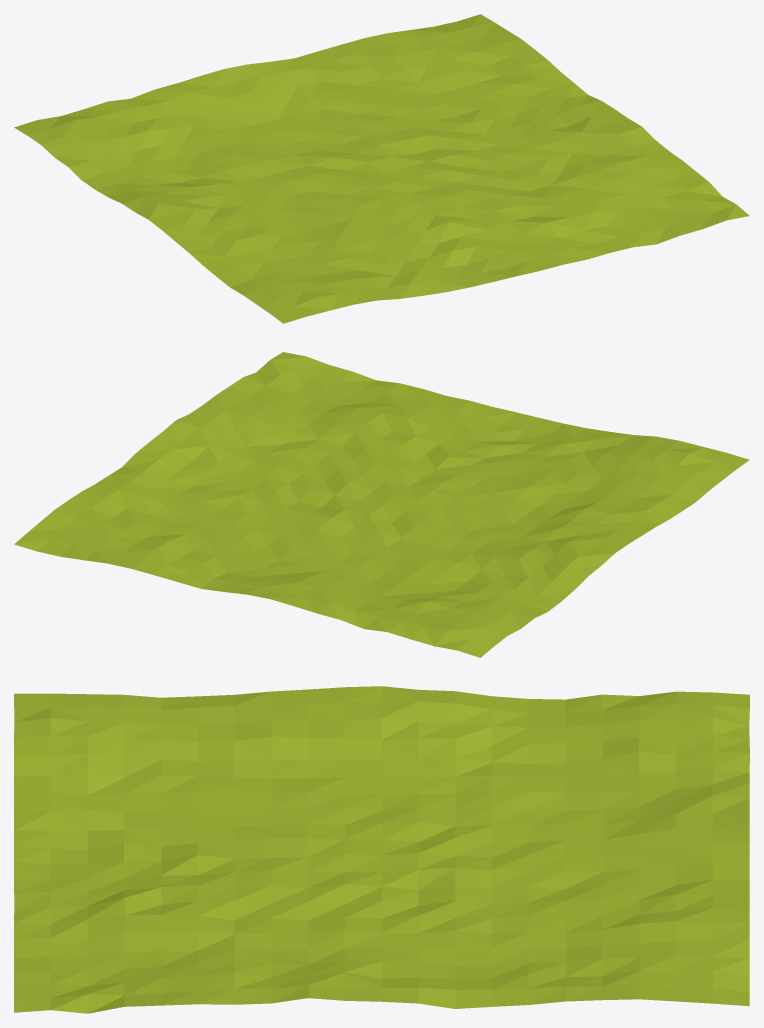
File: Terrain_Menu.fbx
3 views of the same model, one above another, from view 1: azimuth 30°, elevation 25°; view 2: azimuth 150°, elevation 25°; view 3: azimuth 270°, elevation 25° (orthographic). The views are drawn at different scales.
Visible parts, largest first — view 1: Terrain Menu; view 2: Terrain Menu; view 3: Terrain Menu.
Boxes of the visible parts, <box> form: Terrain Menu: <box>14,14,749,323</box>; Terrain Menu: <box>14,352,749,657</box>; Terrain Menu: <box>14,686,749,1013</box>.
Size of the model in its own units: 2001 by 78.07 by 2001.
